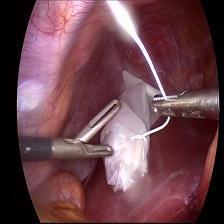Grasper: (53, 98, 122, 159), (150, 85, 217, 125)
Specimen Bag: (100, 65, 168, 194)
